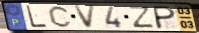4: (104, 5, 123, 29)
C: (48, 5, 74, 29)
L: (25, 4, 49, 28)
P: (153, 5, 177, 30)
V: (73, 4, 98, 30)
Z: (129, 6, 155, 29)
